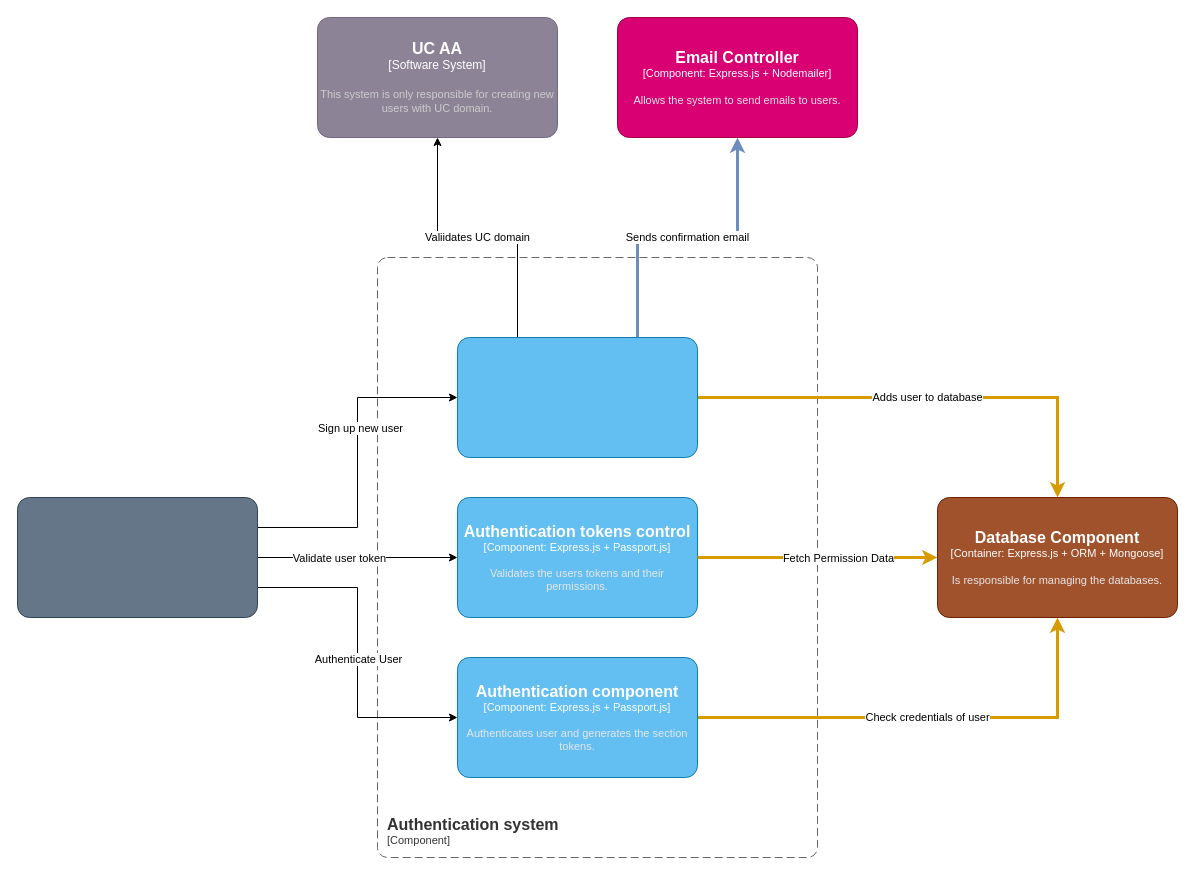
This 1195x875 diagram has some shape labels left out. The shapes that lost their labels are listed below. From the top down, each one's centre as x and y in pixels, then its label:
At (577,397): "Sign up component [Component: Express.js + Passport.js] Signs up user".
At (137,557): "Request Handler [Component: Node.js + Express.js] Replies to client's requests".
